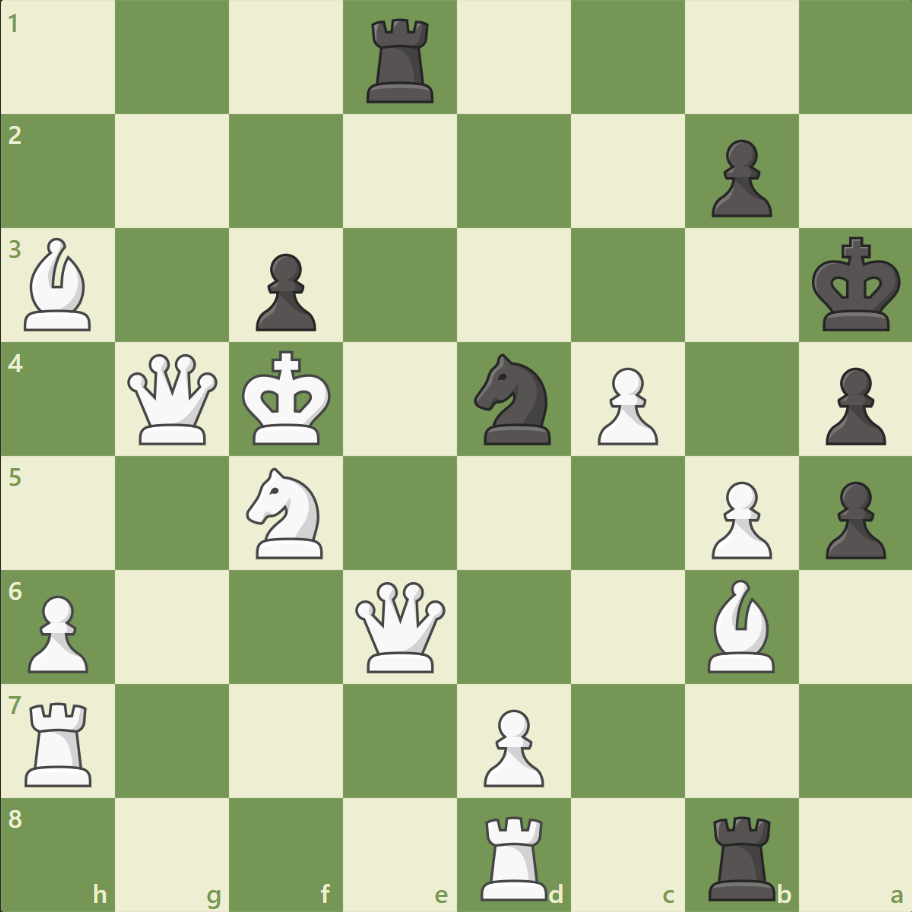B: (17, 233, 101, 336), (698, 574, 782, 676)
K: (238, 344, 338, 452)
N: (238, 461, 335, 564)
P: (474, 700, 549, 791), (20, 586, 95, 677), (701, 473, 776, 564), (588, 359, 662, 450)
Q: (351, 576, 450, 676), (124, 349, 223, 449)
R: (473, 806, 556, 904), (19, 693, 102, 790)
k: (806, 231, 906, 339)
n: (465, 348, 562, 450)
p: (247, 246, 322, 337), (701, 132, 776, 223), (815, 473, 889, 564), (815, 359, 889, 450)
r: (700, 806, 783, 904), (360, 12, 442, 109)
